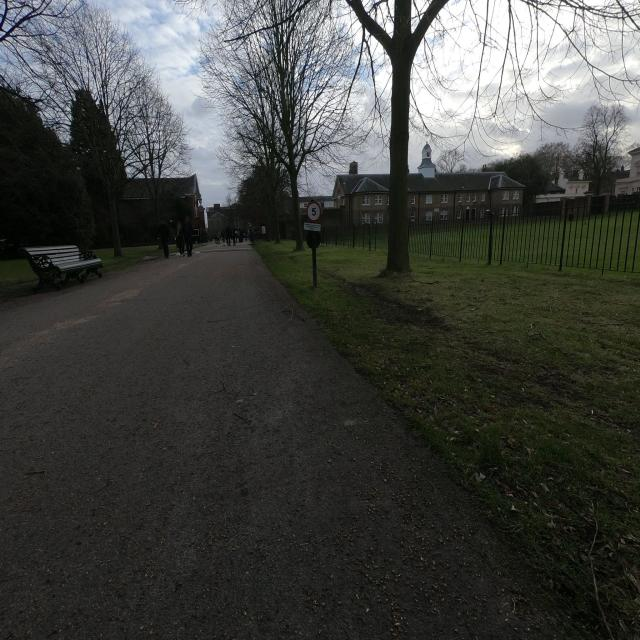car: (0, 235, 87, 289)
